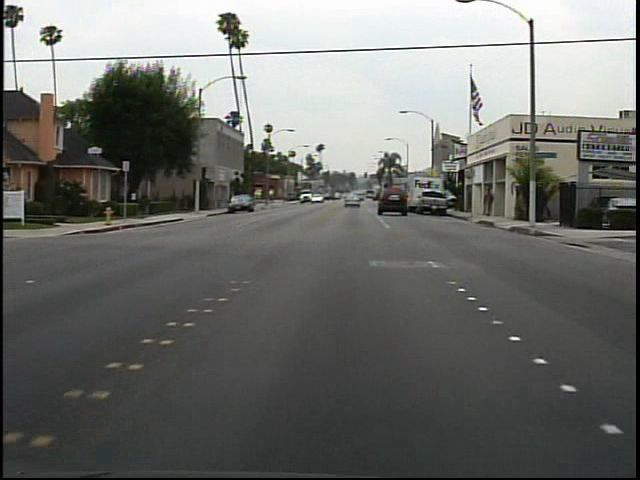person: (480, 186, 499, 220)
